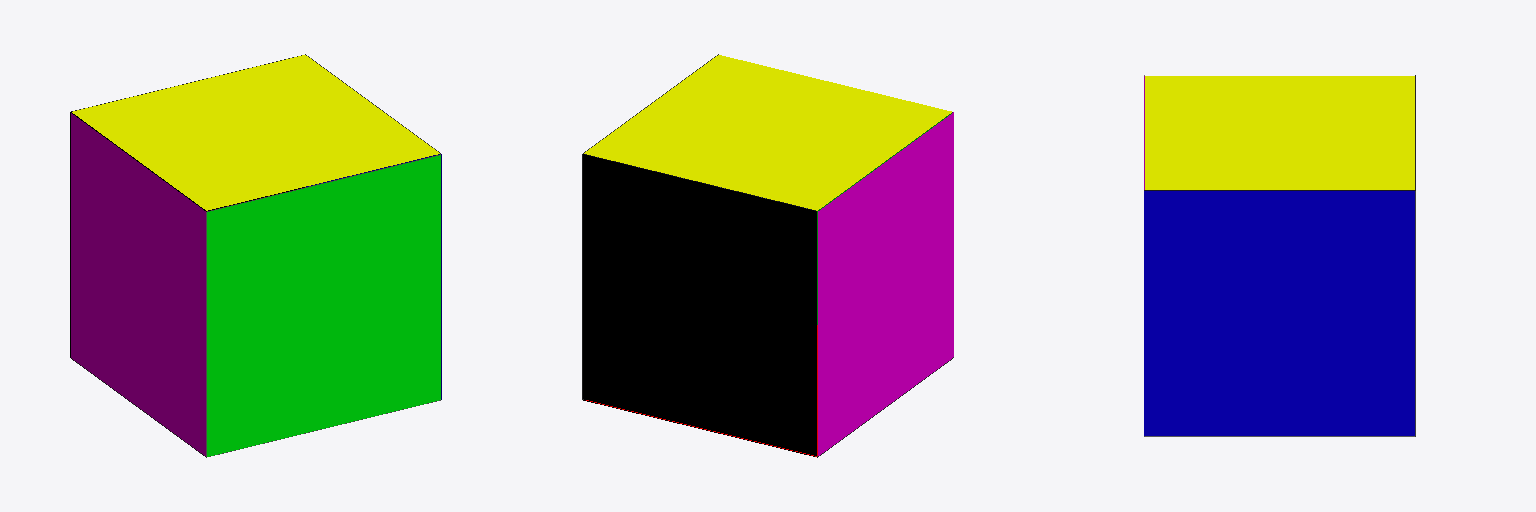
3 views of the same model, side by side, from view 1: azimuth 30°, elevation 25°; view 2: azimuth 150°, elevation 25°; view 3: azimuth 270°, elevation 25° (orthographic).
Visible parts, largest first — view 1: Cube; view 2: Cube; view 3: Cube.
Boxes of the visible parts, <box> form: Cube: <box>70,54,441,457</box>; Cube: <box>582,54,953,457</box>; Cube: <box>1144,75,1415,436</box>.
Size of the model in its own units: 2 by 2 by 2.
Materials: 1 (1 with a texture image).